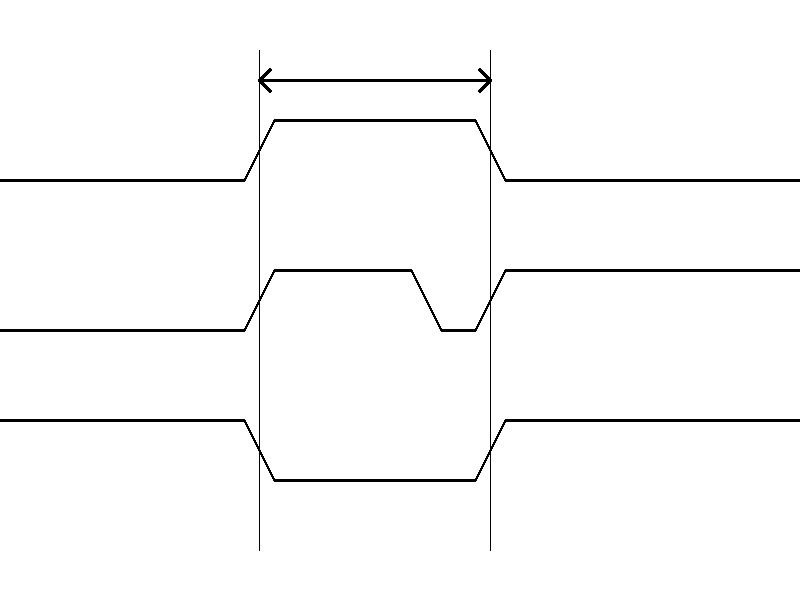double_arrow: (259, 65, 490, 95)
